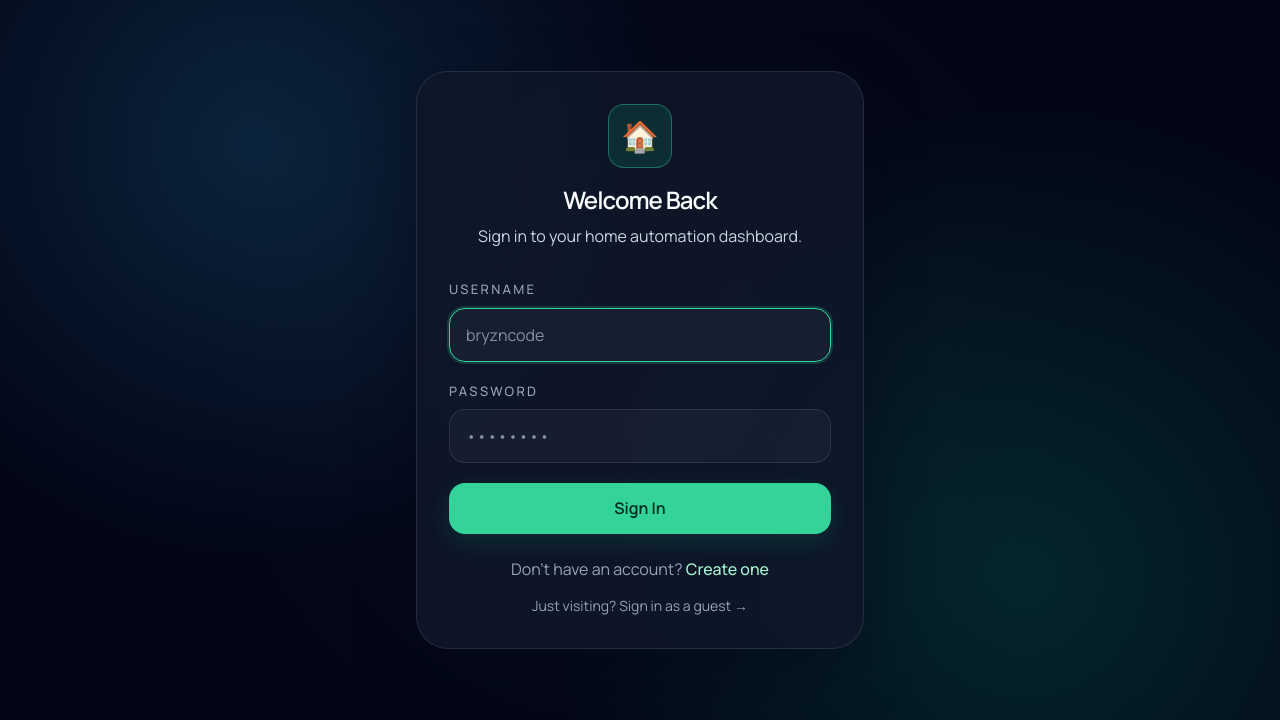
it: Login page › asks for both fields instead of sending an empty login
Click the button "Sign In". click: (640, 509)
box: [449, 483, 831, 534]
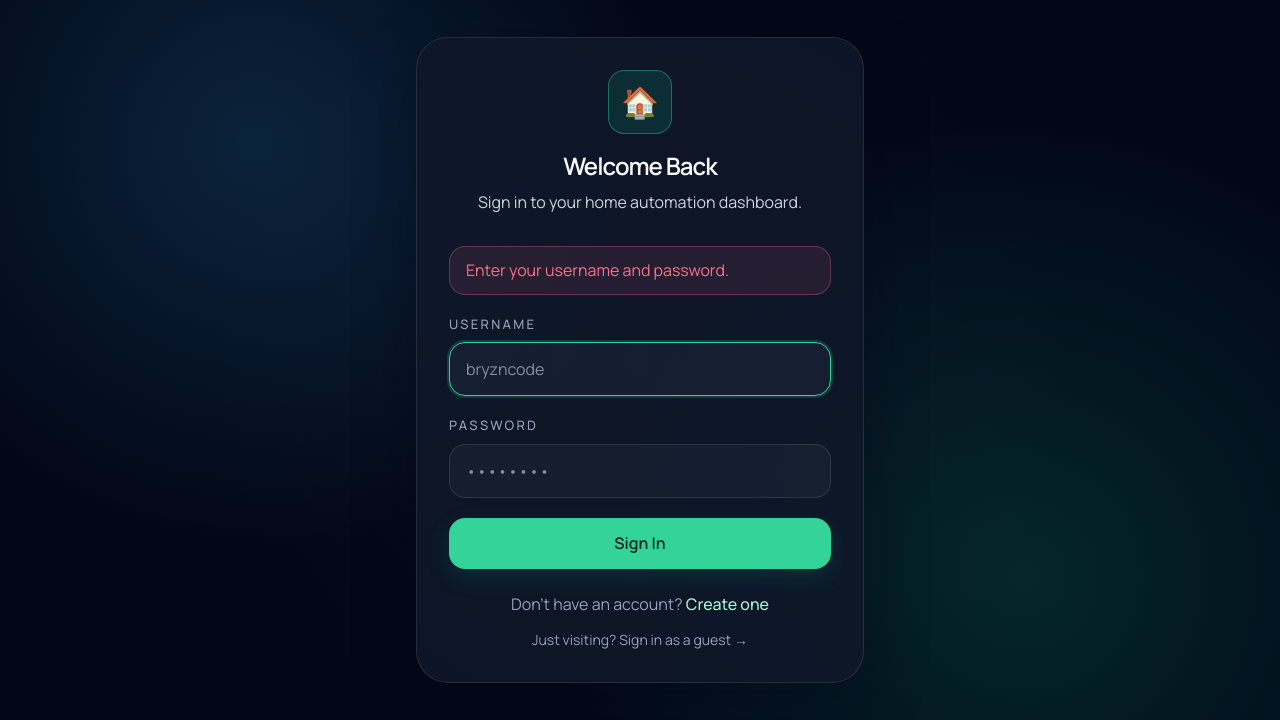
Now the text "Enter your username and password." is shown, box [449, 246, 831, 295]
